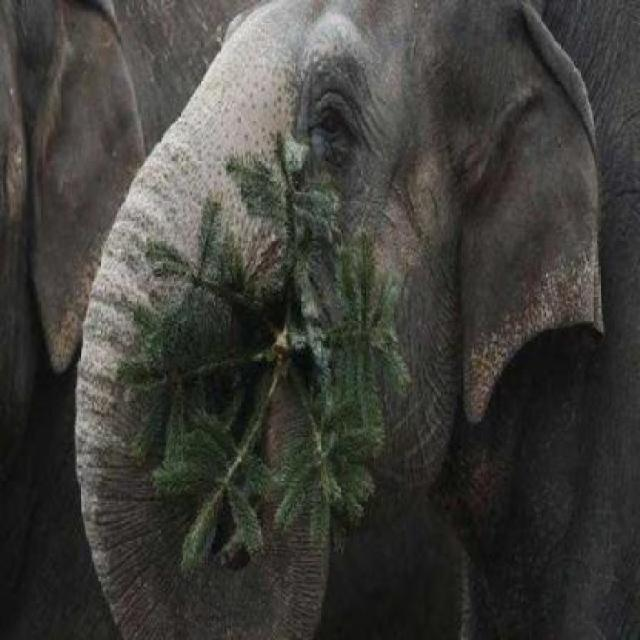Elephant: (67, 6, 607, 636)
